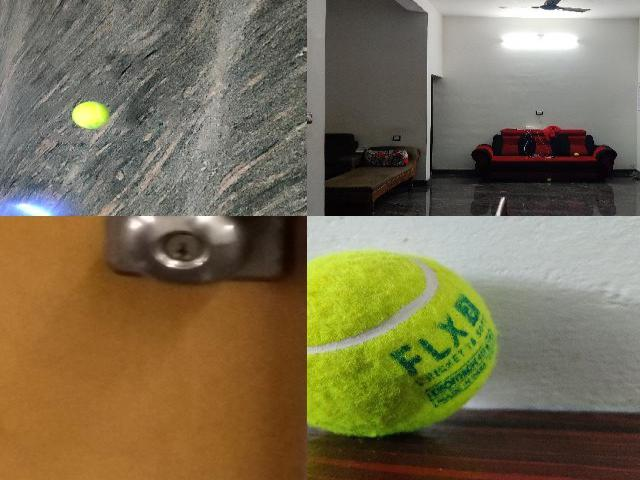tennis-ball: (307, 249, 499, 439), (72, 101, 108, 129), (547, 178, 551, 182), (574, 153, 578, 156)
